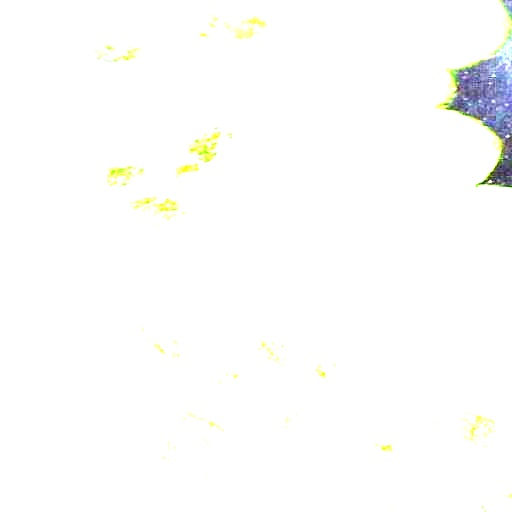Angular Leafspot: (61, 0, 511, 511)
